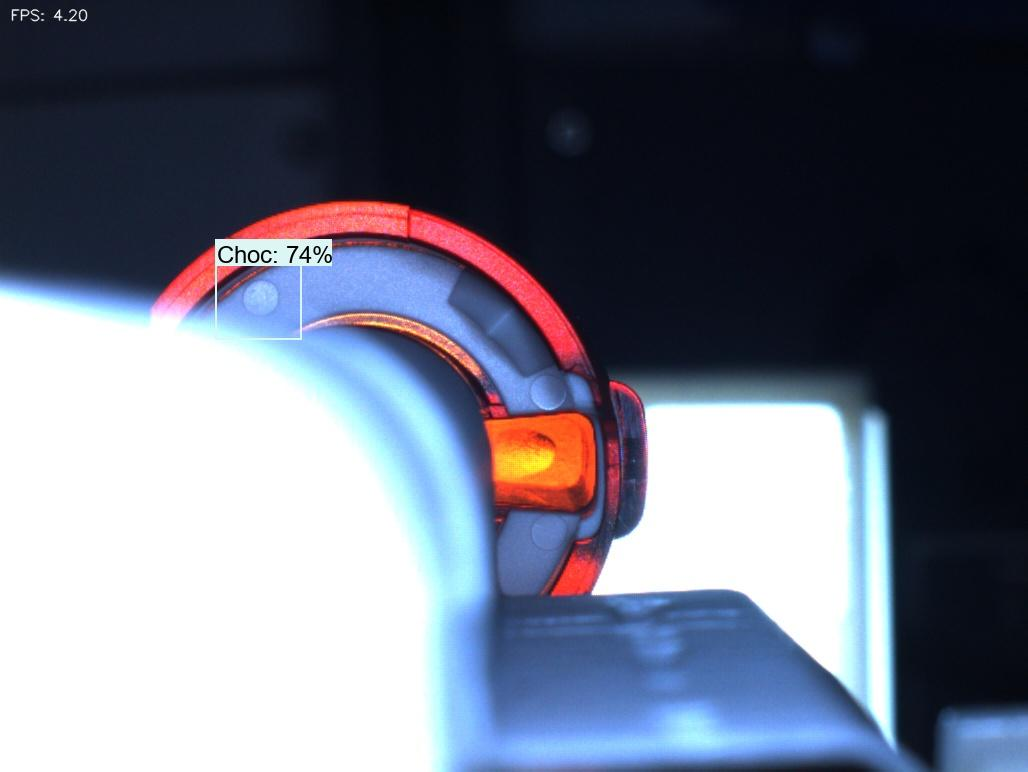Retassure: (484, 418, 565, 497)
